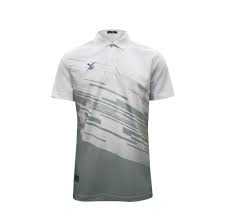S_polo shirt: (43, 27, 185, 205)
